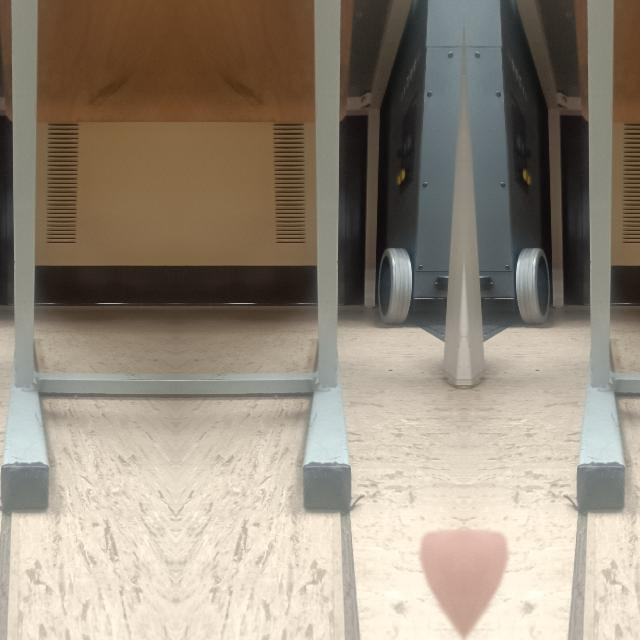obstacle: (301, 238, 353, 514), (575, 238, 627, 514), (0, 238, 49, 513)
